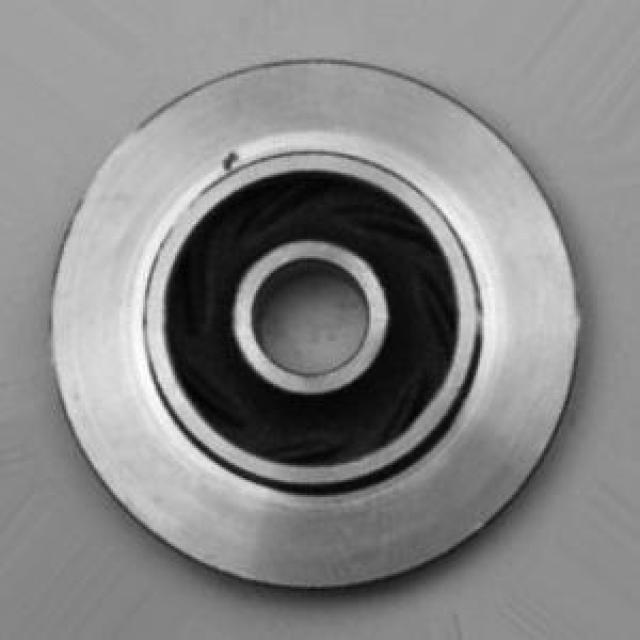Defect: (217, 144, 249, 172)
